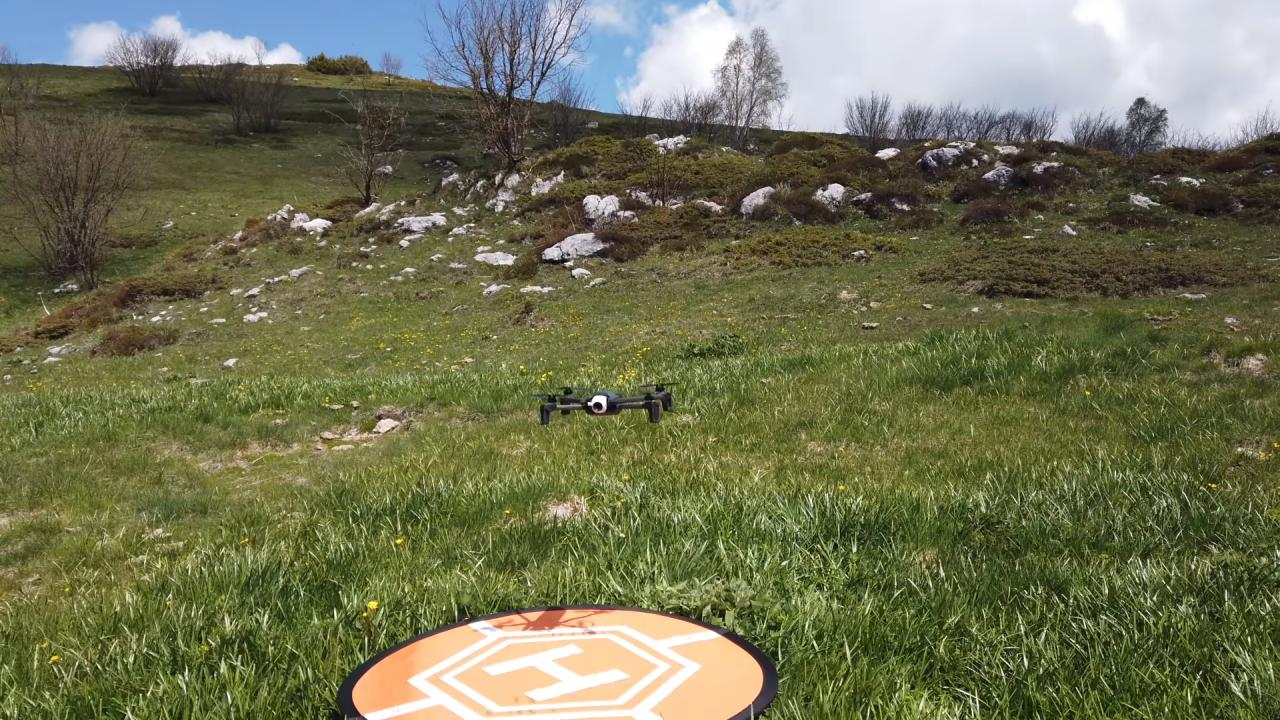Drone: (523, 374, 691, 434)
